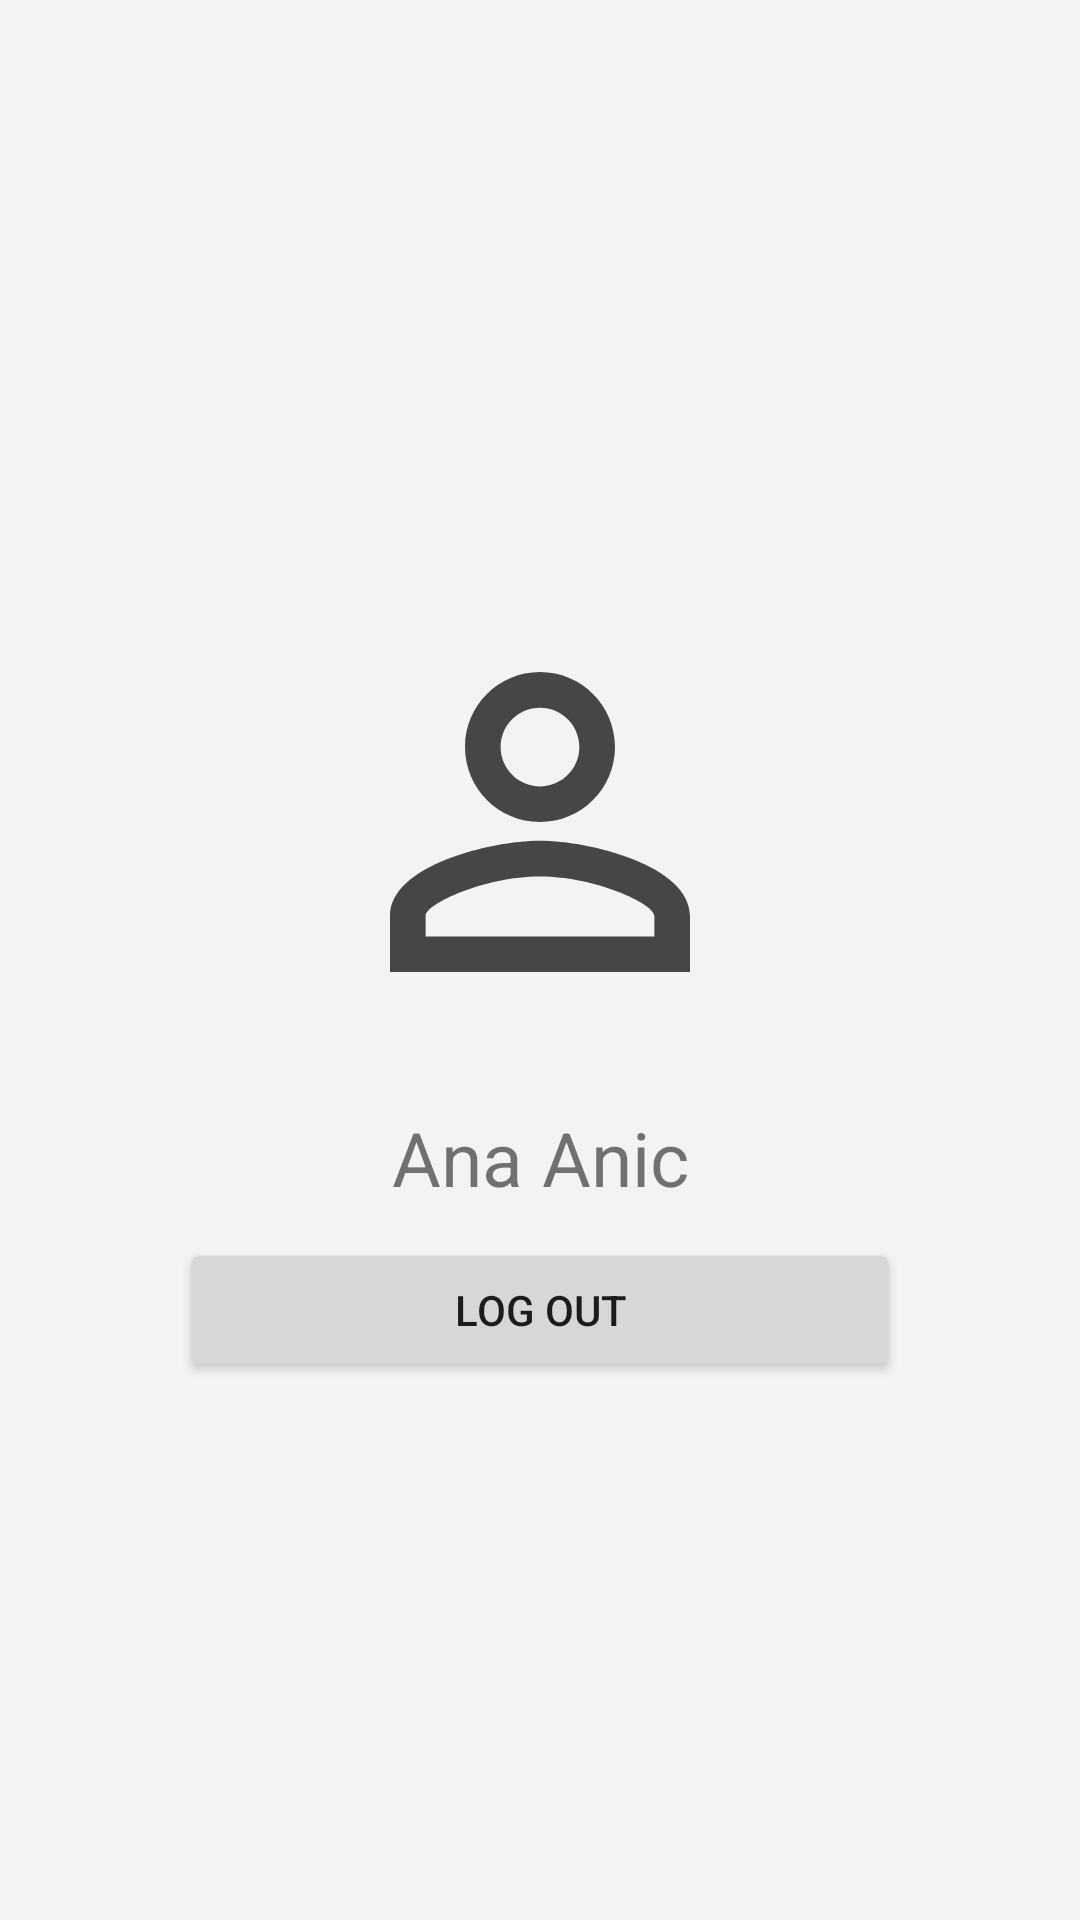

Where to tap for icons on this 1080 x 1920 app screen, as (x=x, y=y):
person: (x=540, y=822)
